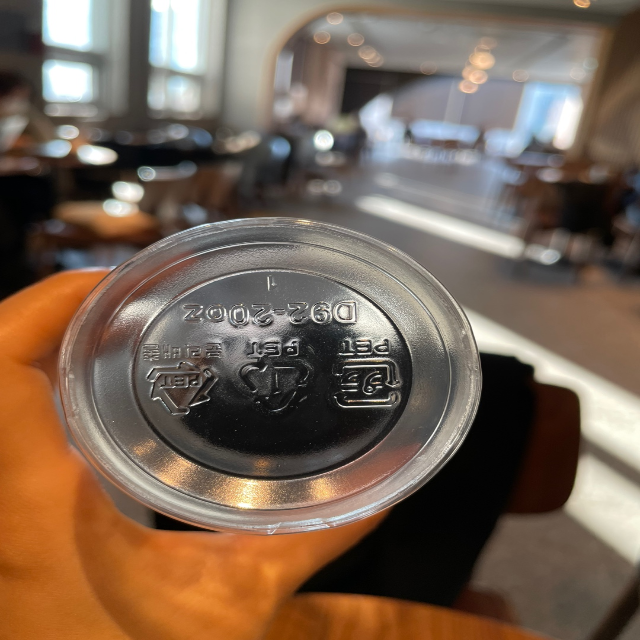pet: (132, 336, 229, 415), (330, 332, 409, 420), (237, 335, 316, 418)
